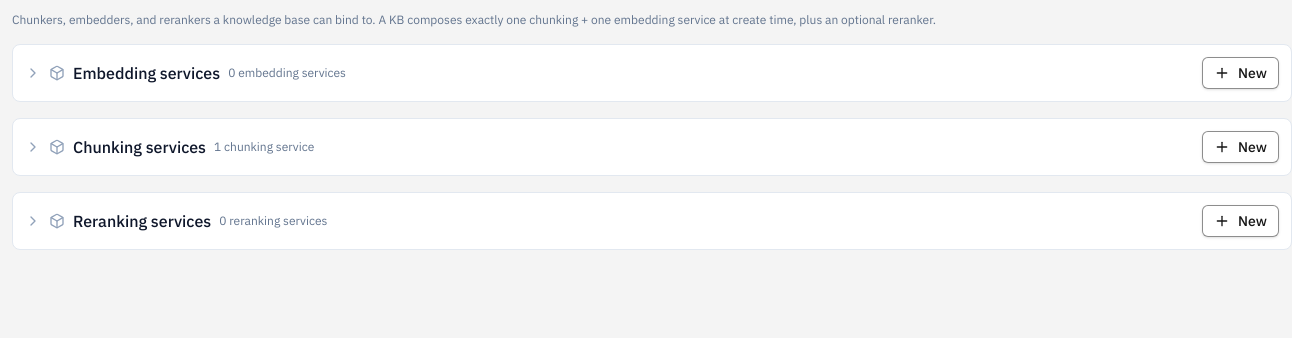
Test: ServicesPanel › expands the chunking subpanel and renders its rows
Click the button "Chunking services 1 chunking service" at (139, 147), box x1=25 y1=135 x2=1190 y2=159
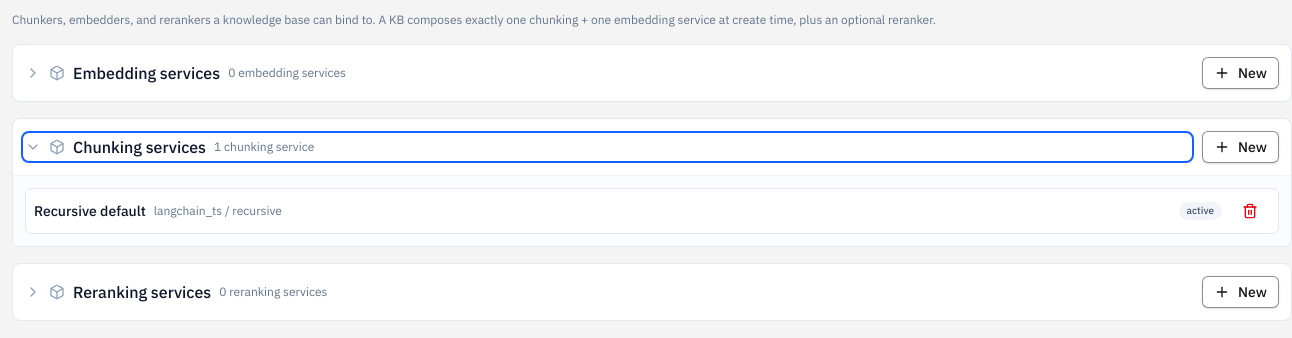
Expected: the text "Recursive default" is shown, x1=34 y1=201 x2=146 y2=221
Expected: the text "langchain_ts / recursive" is shown, x1=154 y1=203 x2=282 y2=219
